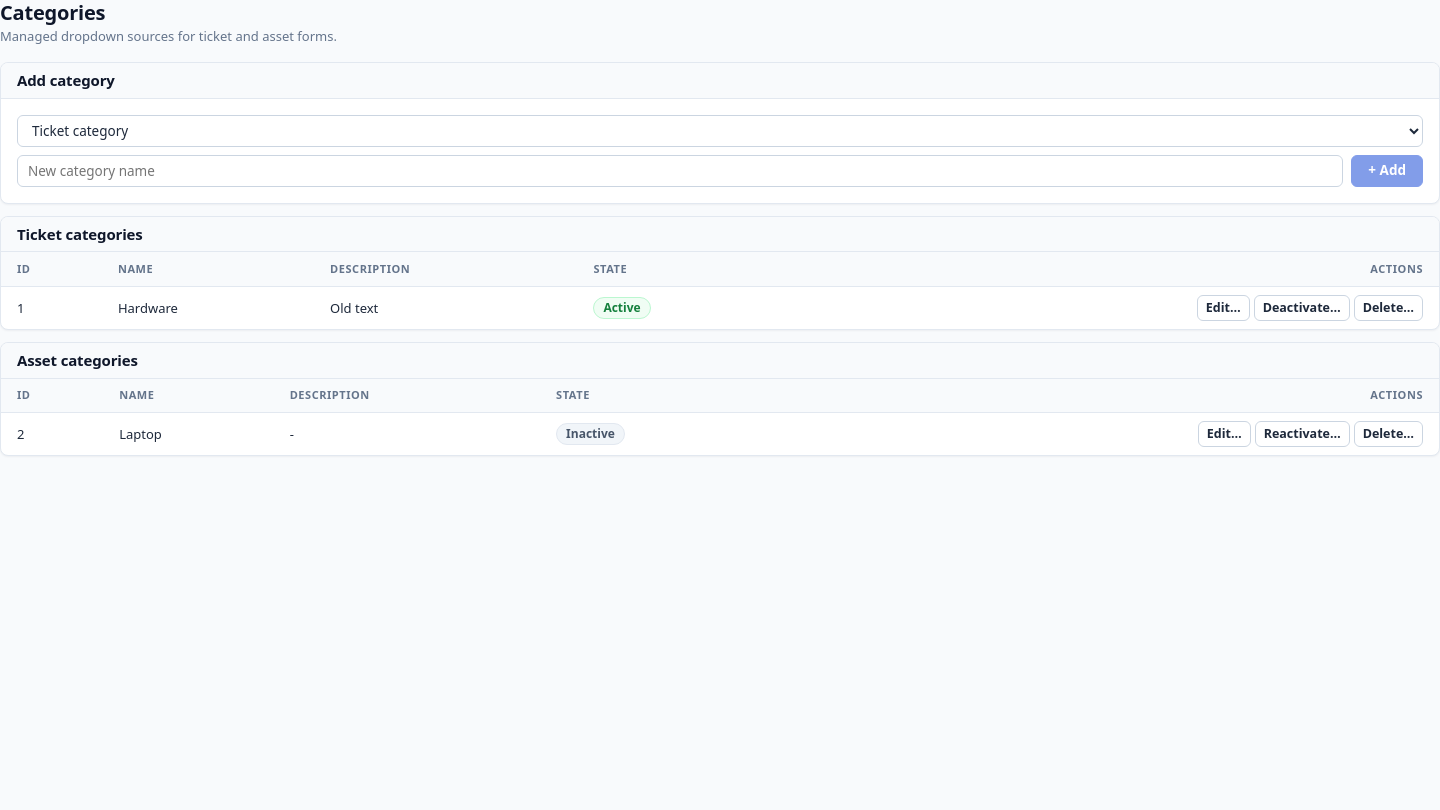
Test: Categories page › surfaces duplicate-name errors from the API without closing
Expected: the text "Hardware" is shown, [106,286,318,329]
Click the button "Edit…" in the row of "Hardware" at (1223, 308), box [1197,295,1250,321]
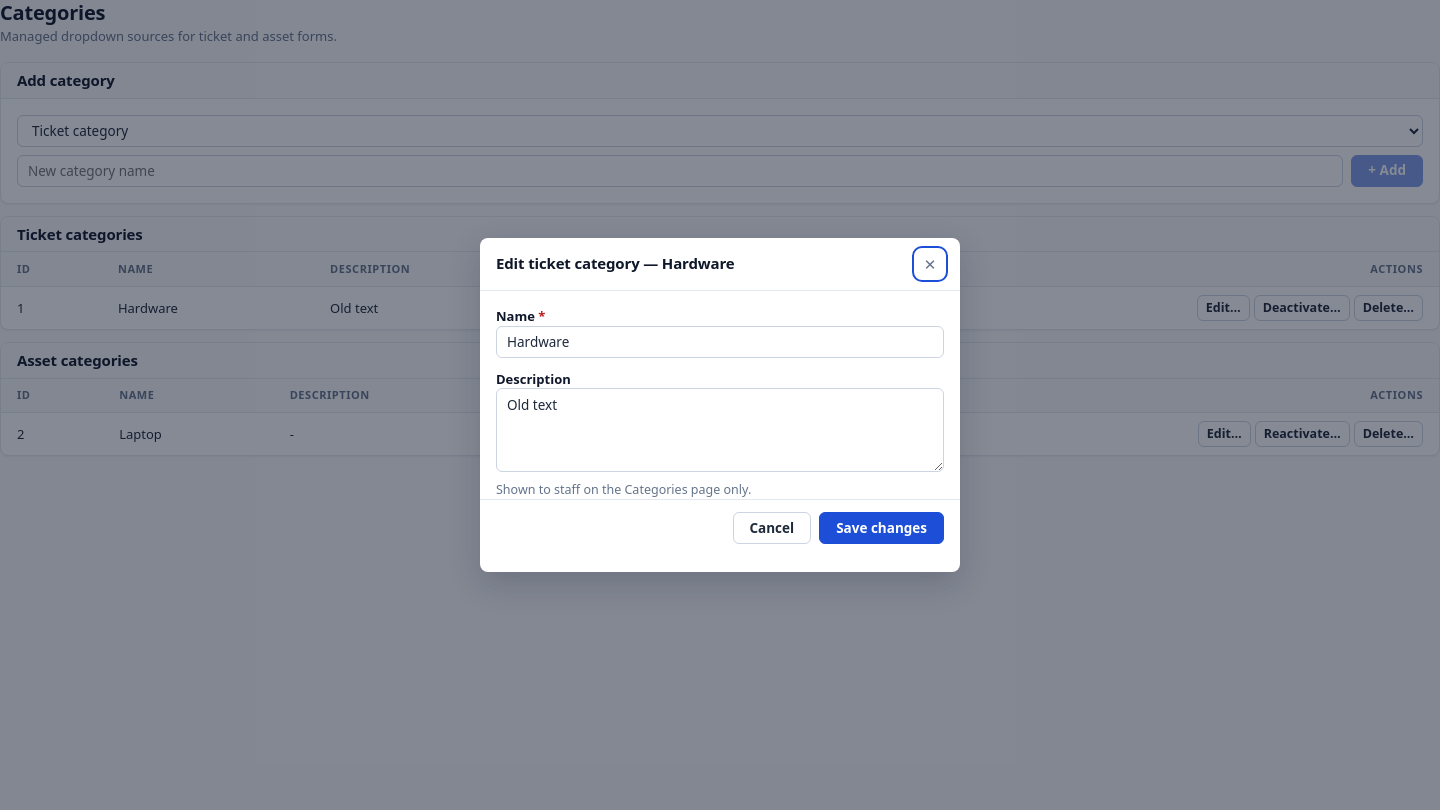
Replace the text in the field labelled "Name *" with "Duplicate" at (720, 342), box [496,326,944,358]
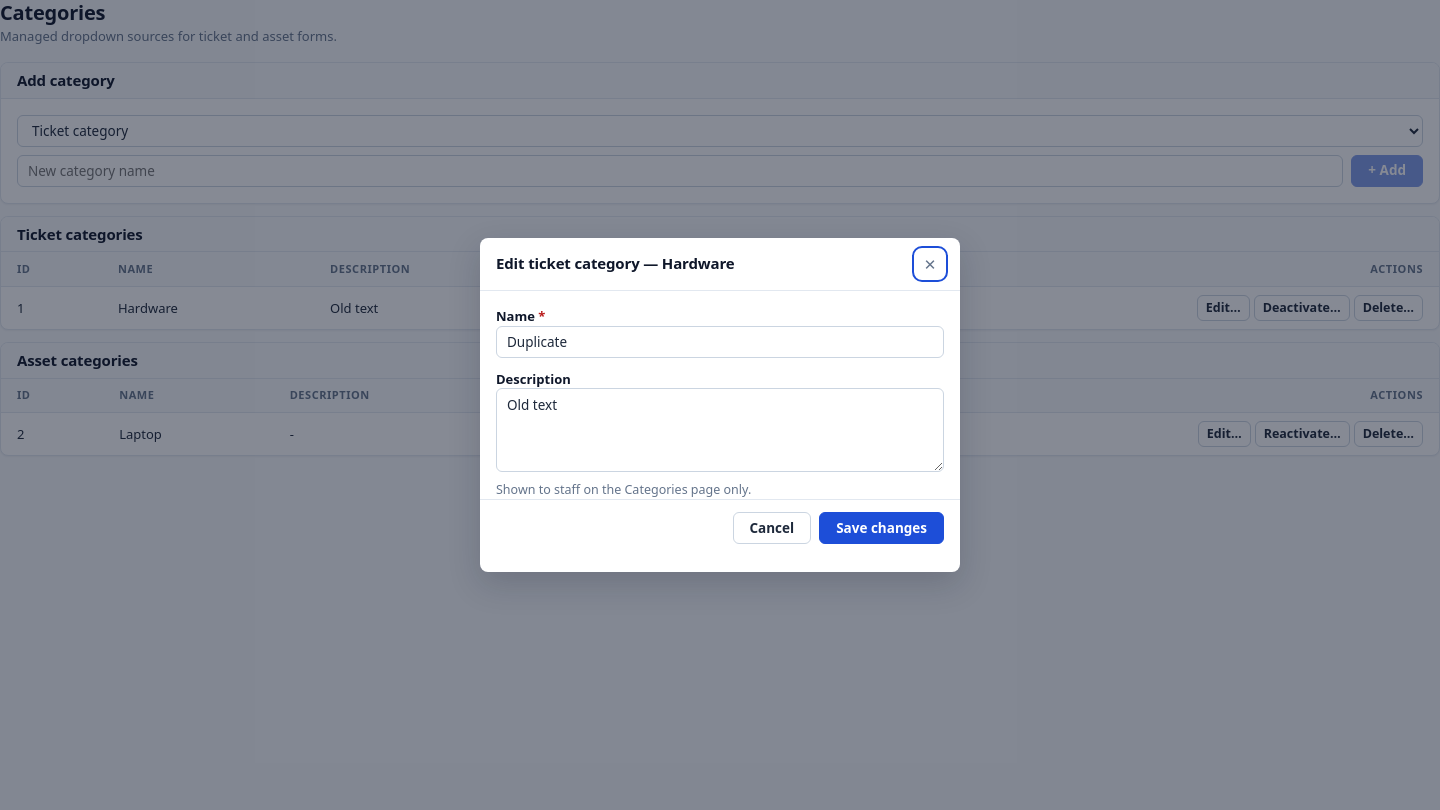
Click the button "Save changes" at (882, 528), box [819,512,944,544]
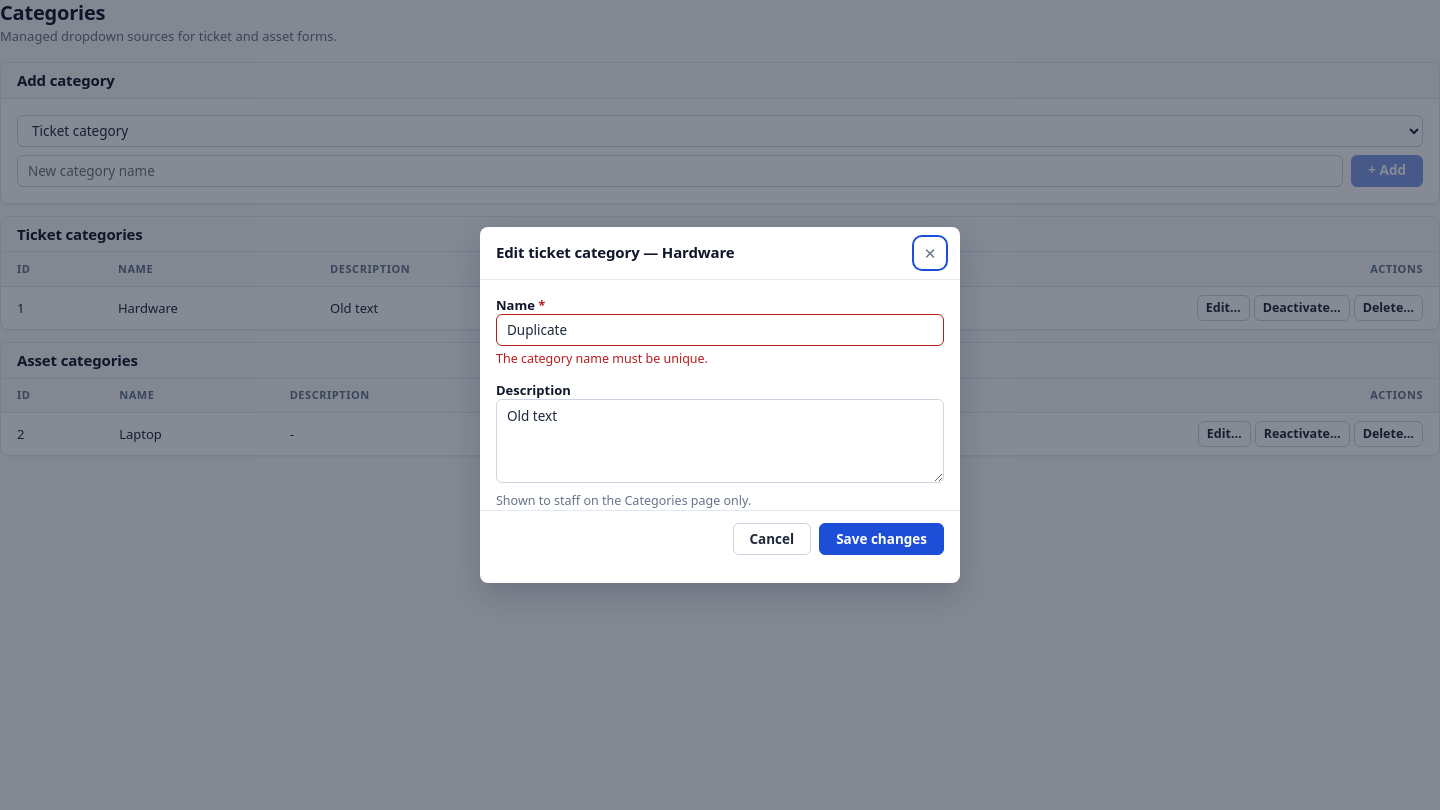
Now the button "Save changes" is shown, box [819,523,944,555]
Now the text "The category name must be unique." is shown, box [496,350,708,368]
